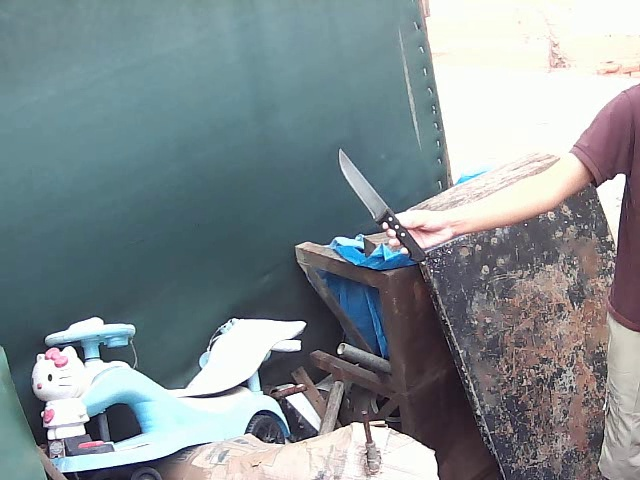cuchillo: (328, 145, 418, 250)
